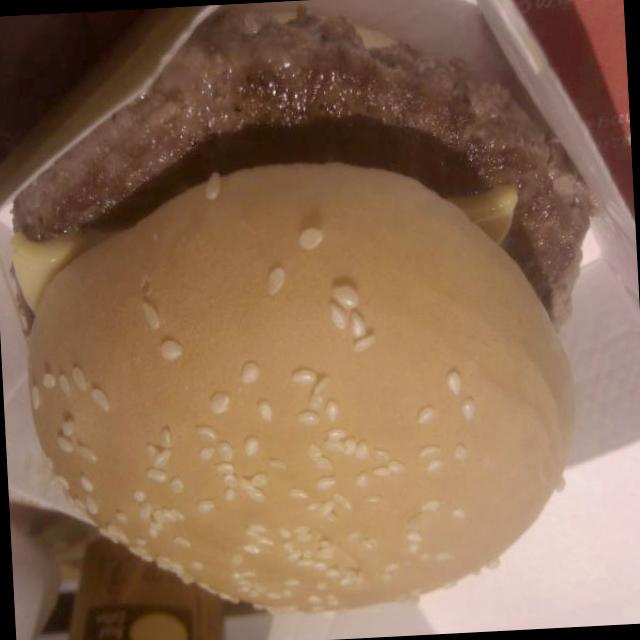Hamburger: (0, 0, 628, 640)
